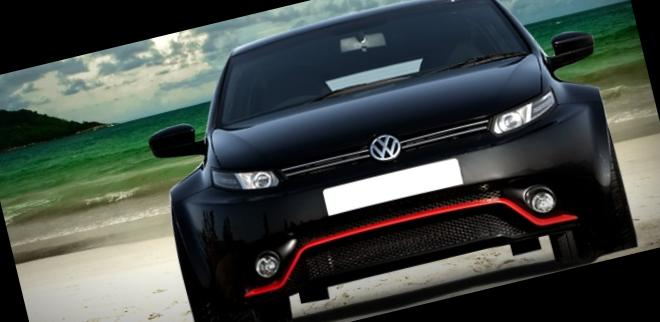plate: (320, 153, 469, 222)
